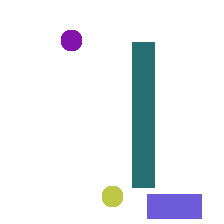circle: (102, 186, 122, 206), (61, 30, 81, 50)
rectangle: (132, 42, 154, 187), (147, 194, 201, 218)
